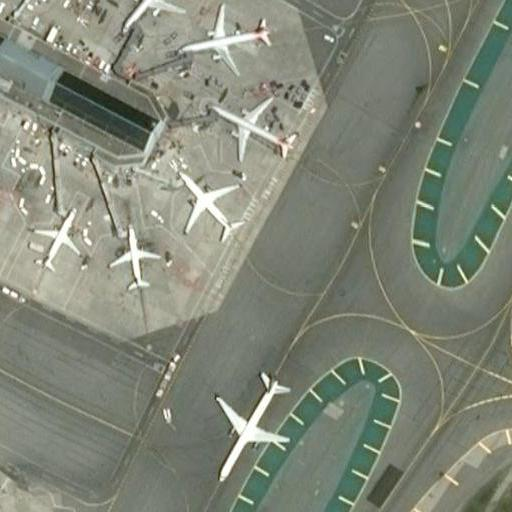Aircraft: (213, 370, 290, 485), (176, 1, 270, 78), (210, 93, 298, 164), (174, 170, 243, 245), (106, 224, 159, 291), (29, 206, 82, 271), (118, 0, 189, 33)
